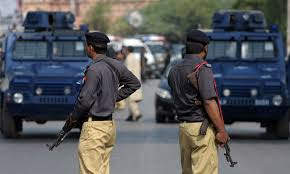gun: (184, 70, 237, 168), (45, 105, 84, 159)
uniform: (71, 57, 144, 174), (167, 55, 226, 172)
